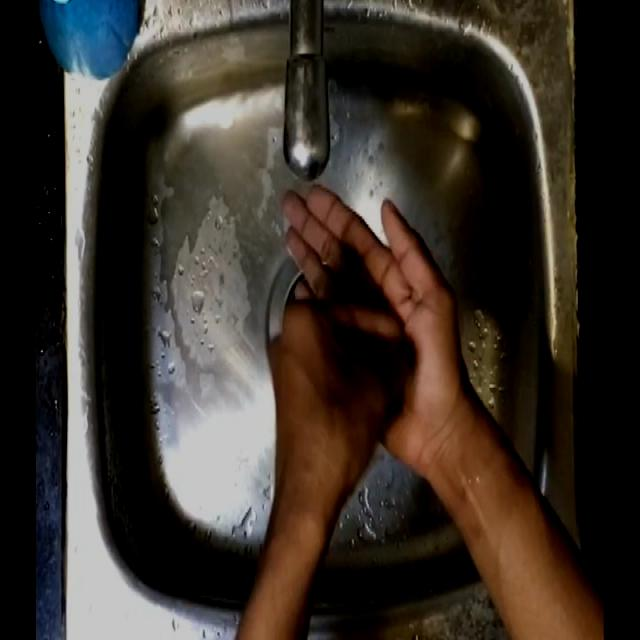step_6: (254, 170, 471, 471)
